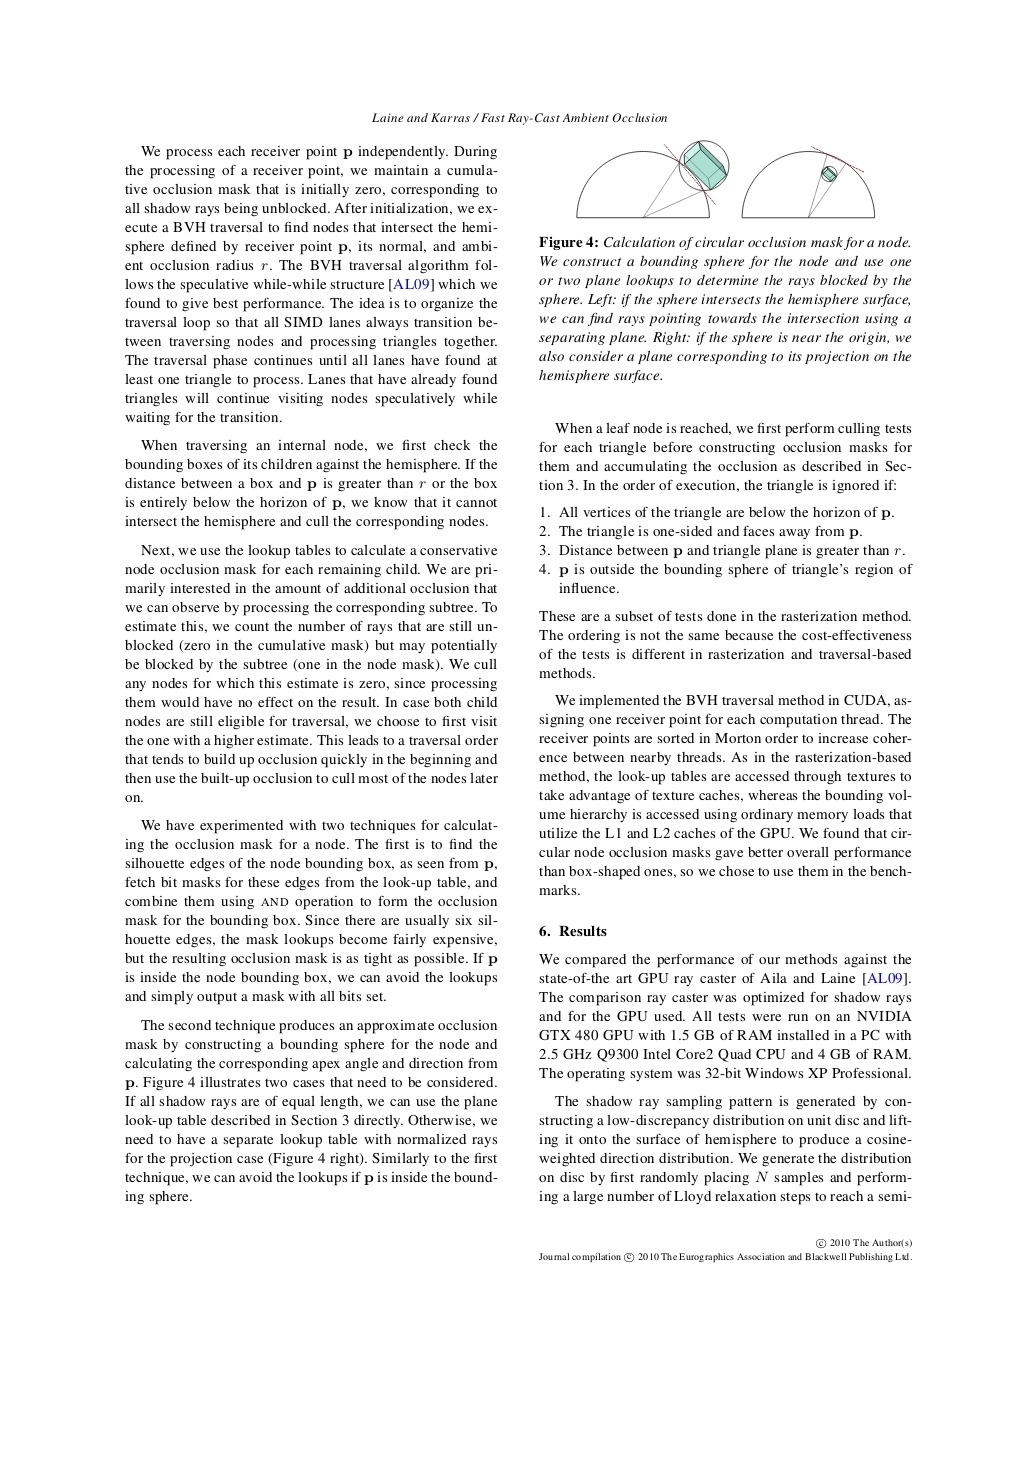figure: (576, 140, 729, 218), (740, 146, 875, 218)
